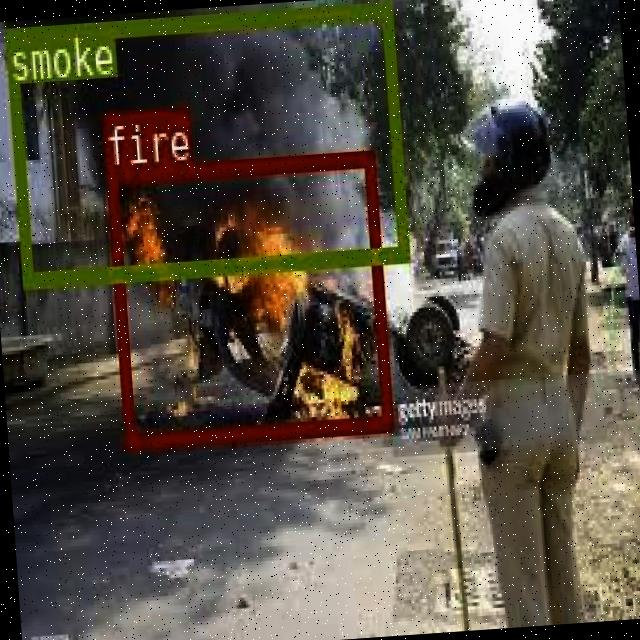fire: (103, 149, 390, 445)
smoke: (3, 0, 408, 283)
